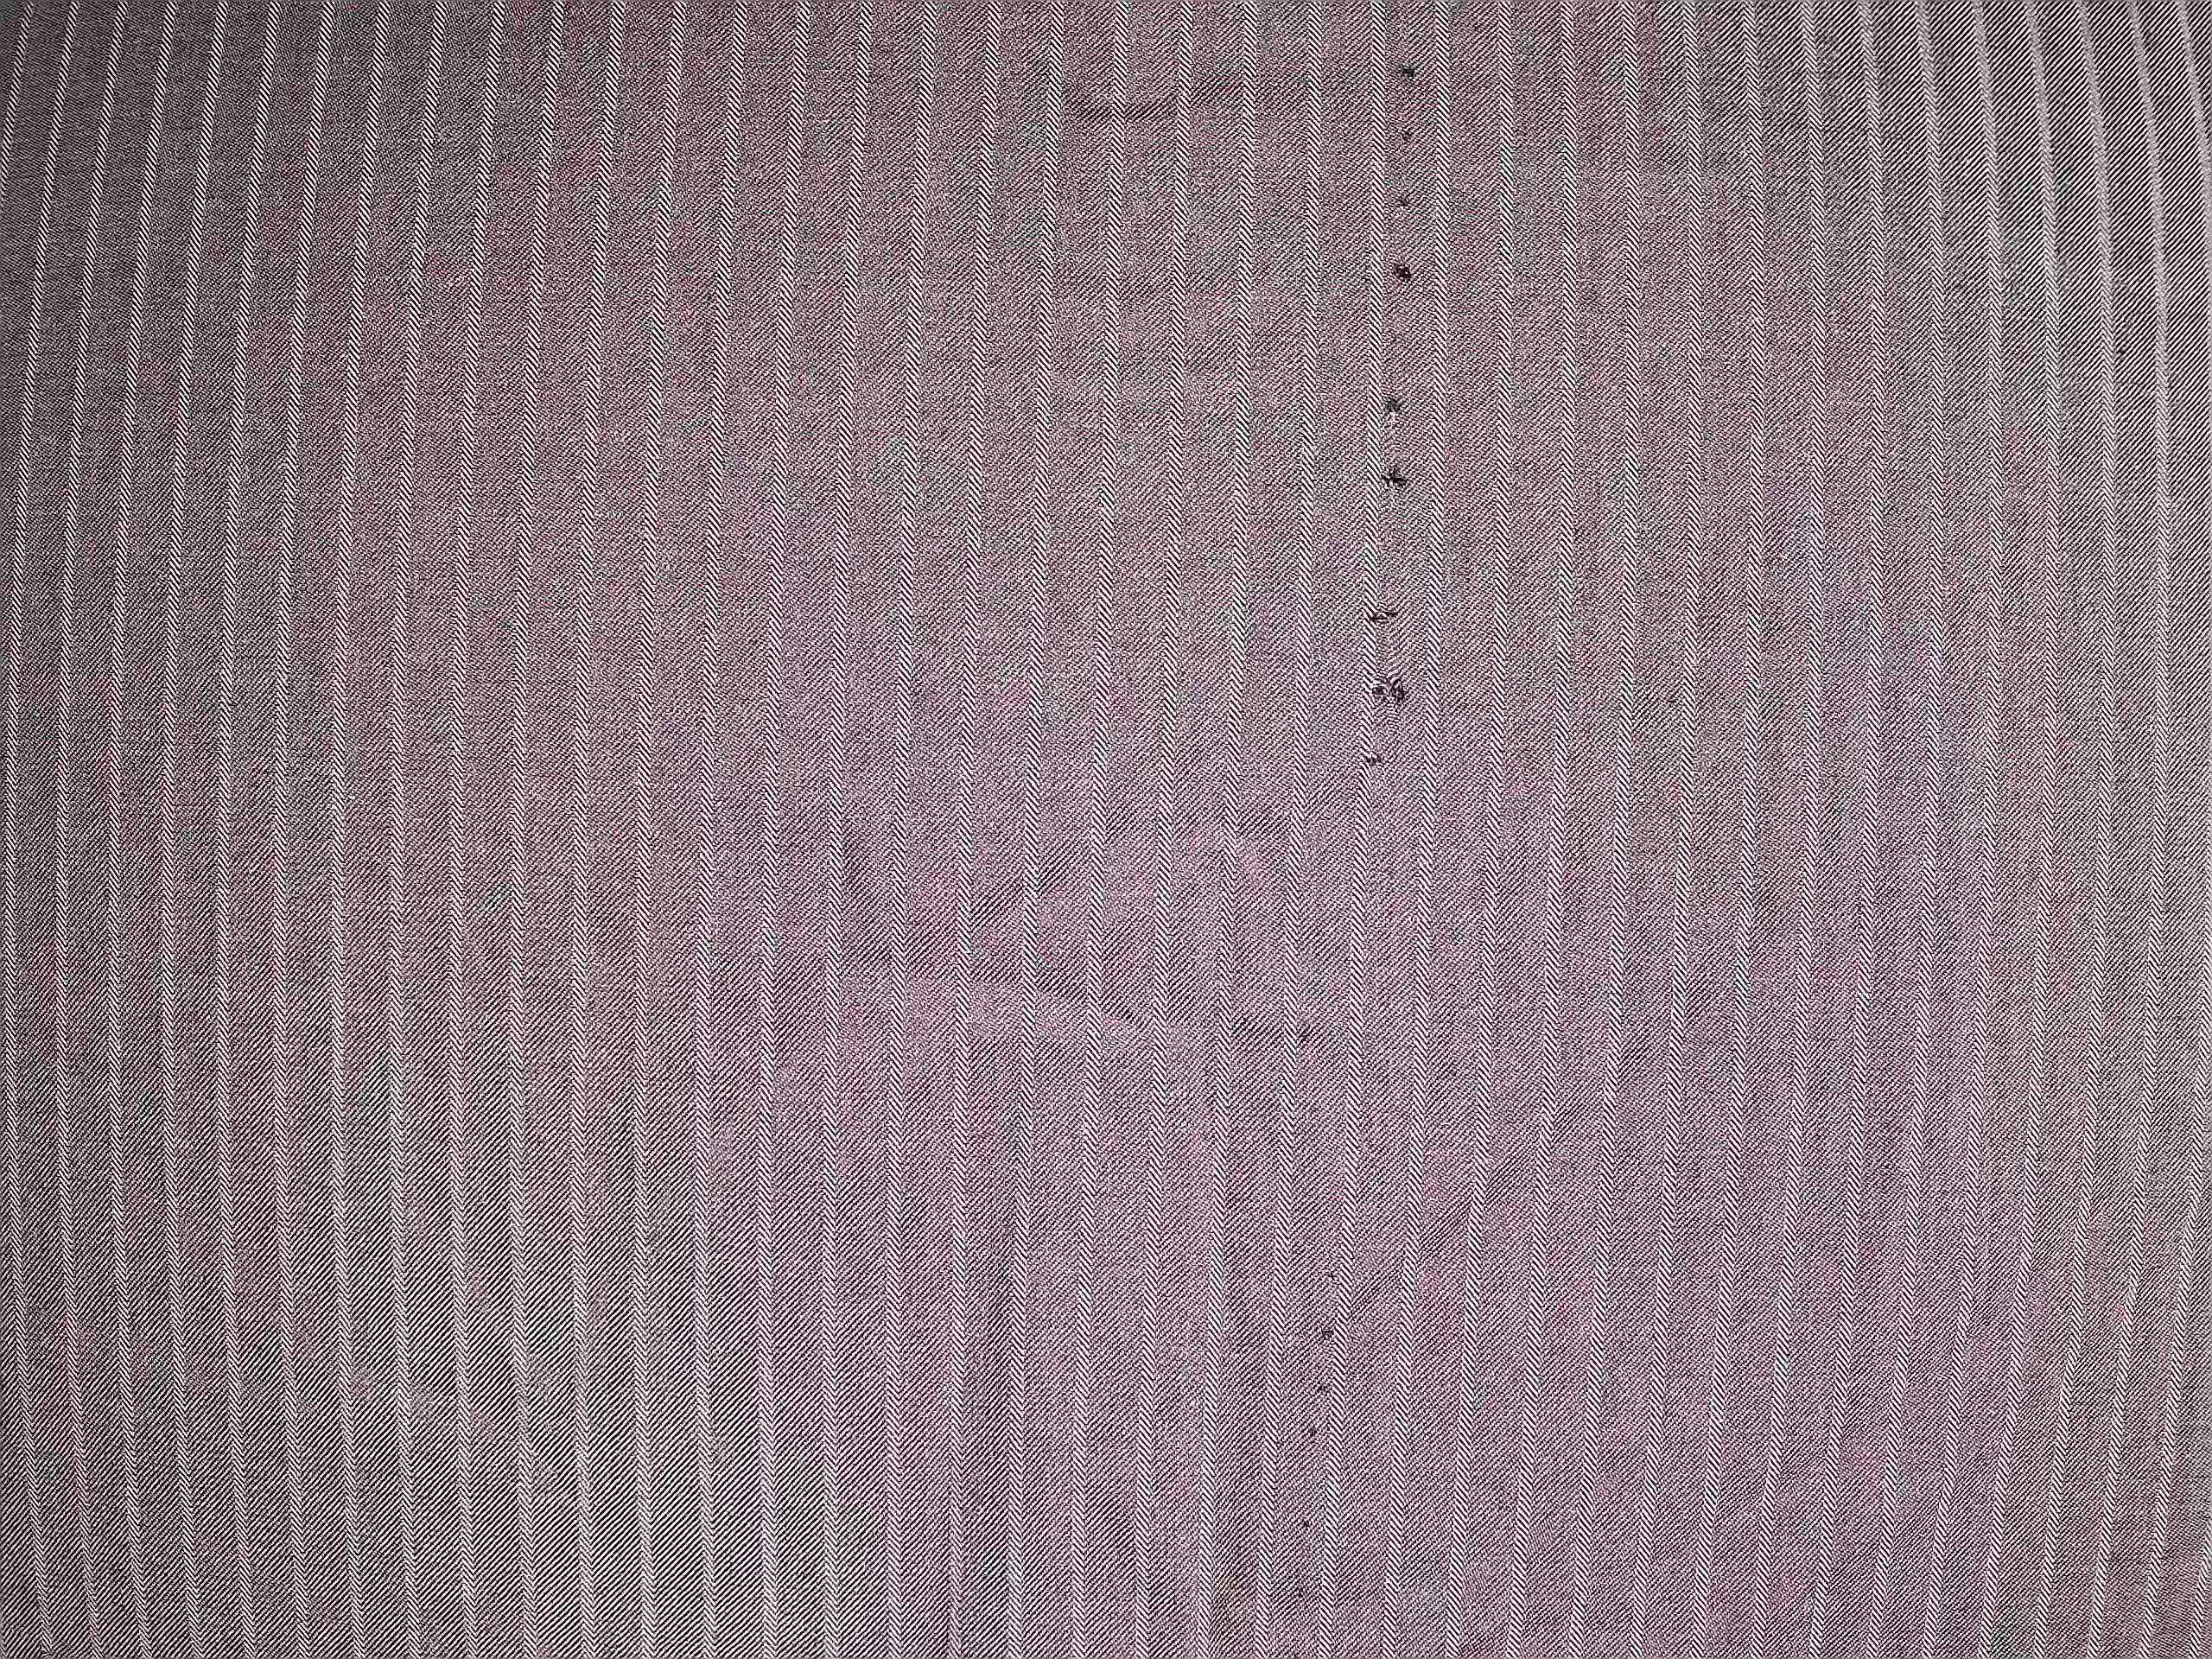puncture-hole: (1362, 33, 1439, 838)
